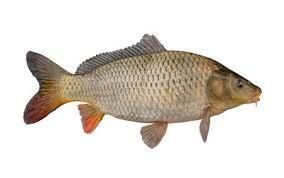Grass Carp: (23, 34, 263, 150)
